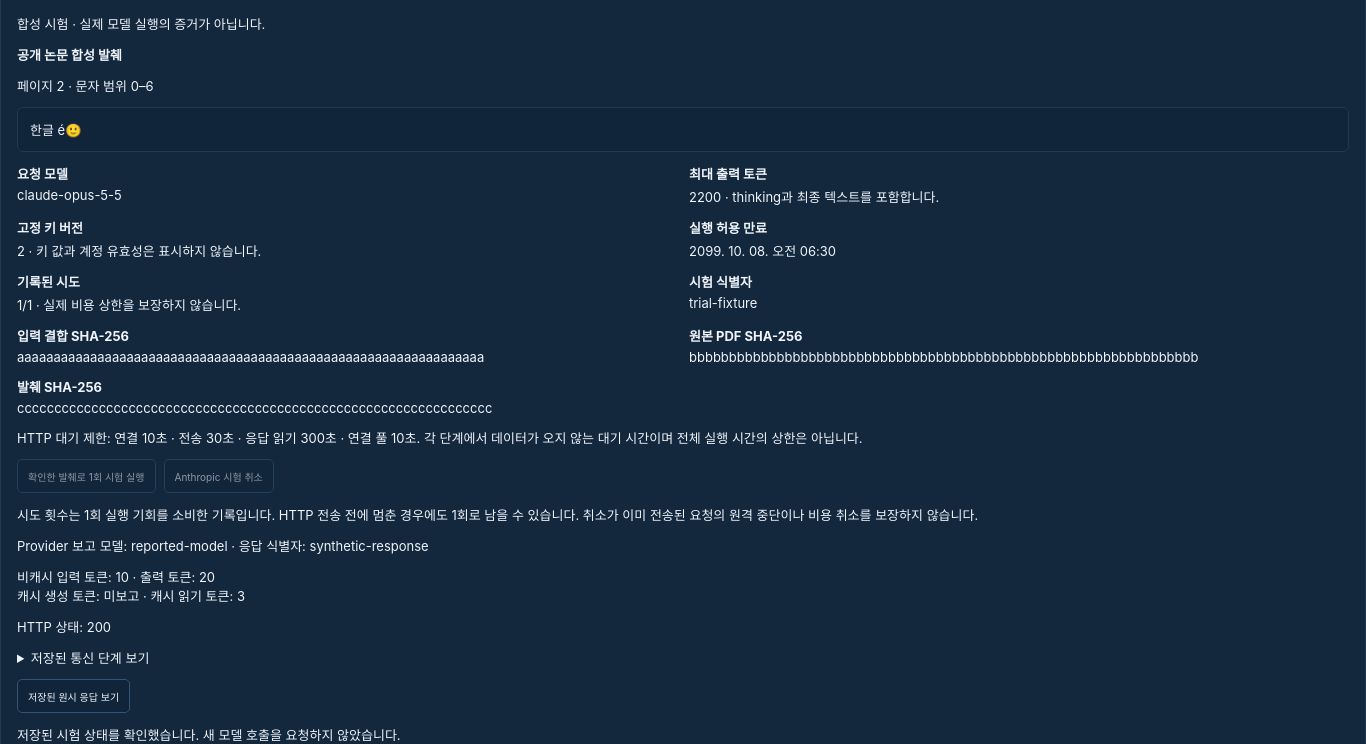
shows the bound inactivity limits and saved transport milestones without enabling another attempt
(page scrolled)
Expected: the heading "공개 논문 합성 발췌" is shown, [17,47,122,63]
Expected: the text "응답 읽기 300초" is shown, [17,430,863,446]
Click the heading "저장된 통신 단계 보기" at (90, 658), box [31,650,149,666]
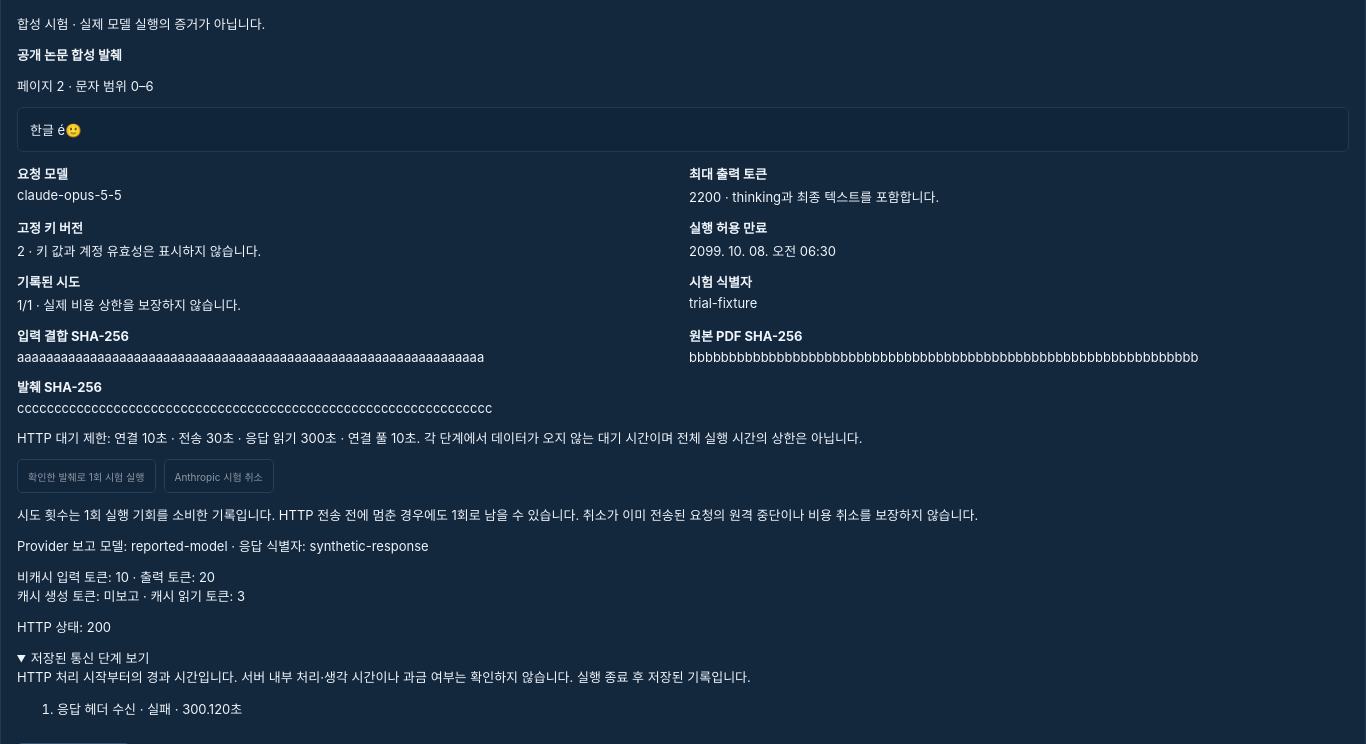
Expected: the button "확인한 발췌로 1회 시험 실행" is disabled, [17,459,156,493]
Now the list item "응답 헤더 수신 · 실패 · 300.120초" is shown, box [57,701,242,717]
